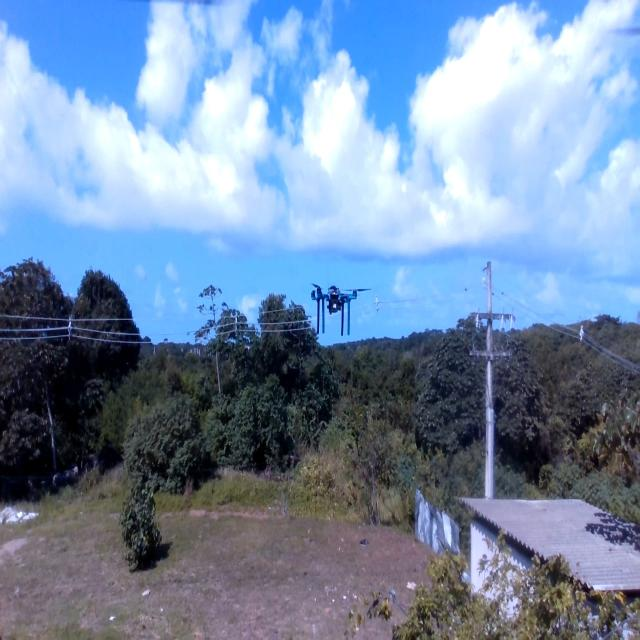-uav-: (303, 268, 369, 357)
